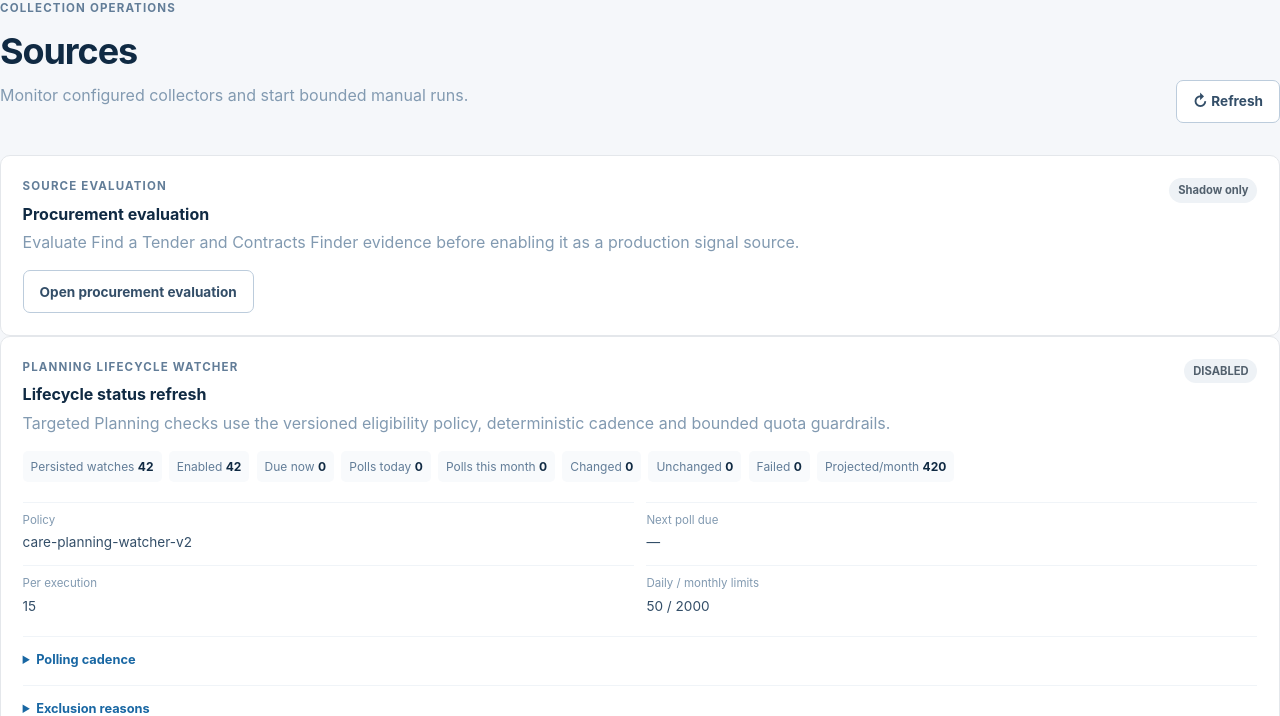
Test case: admin frontend › shows the CareProspect lifecycle watcher runtime and guardrails
This screenshot has width=1280, height=716.
Expected: the heading "Lifecycle status refresh" is shown, [23, 384, 206, 404]
Expected: the text "DISABLED" is shown, [1184, 359, 1257, 384]
Click the heading "Polling cadence".
click(86, 659)  # box [36, 652, 136, 667]
(page scrolled)
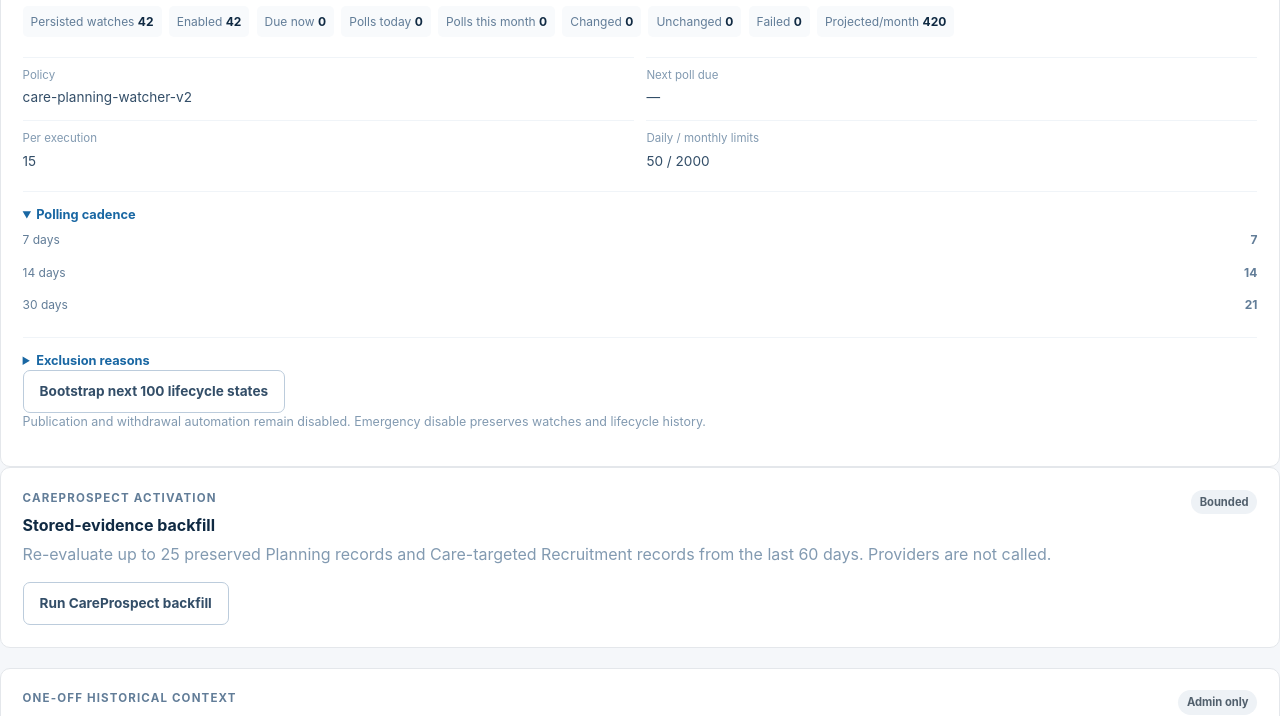
Expected: the text "7 days" is shown, [23, 231, 60, 249]
Click the heading "Exclusion reasons".
click(93, 360)  # box [36, 353, 150, 368]
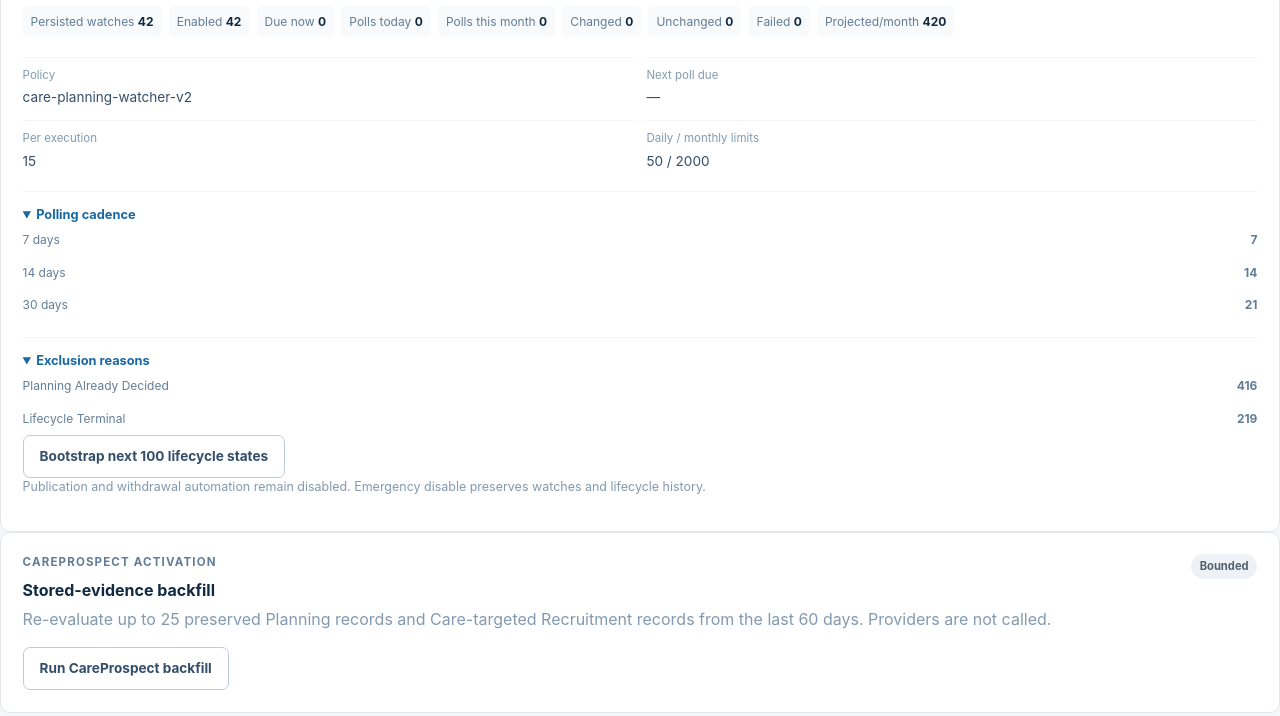
Expected: the text "Planning Already Decided" is shown, [23, 377, 169, 395]
Click the button "Bootstrap next 100 lifecycle states".
click(154, 456)  # box [23, 435, 285, 478]
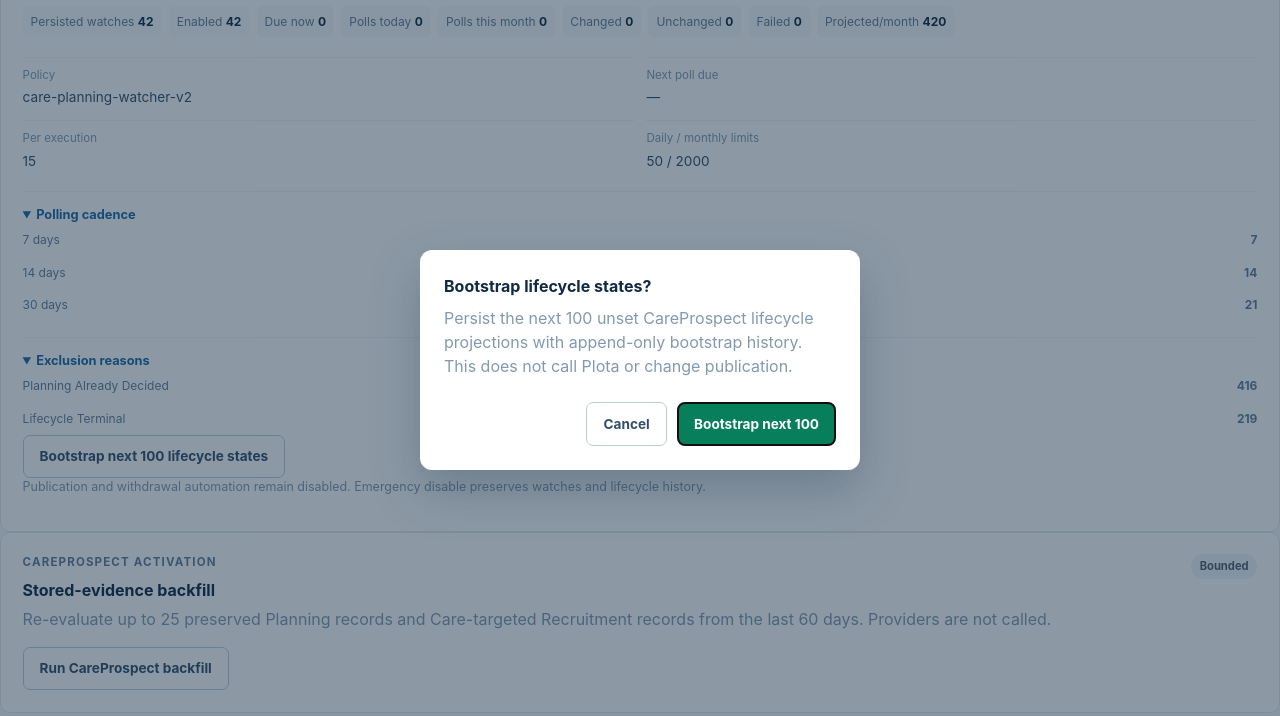
Click the button "Bootstrap next 100".
click(757, 424)  # box [677, 402, 836, 446]
(page scrolled)
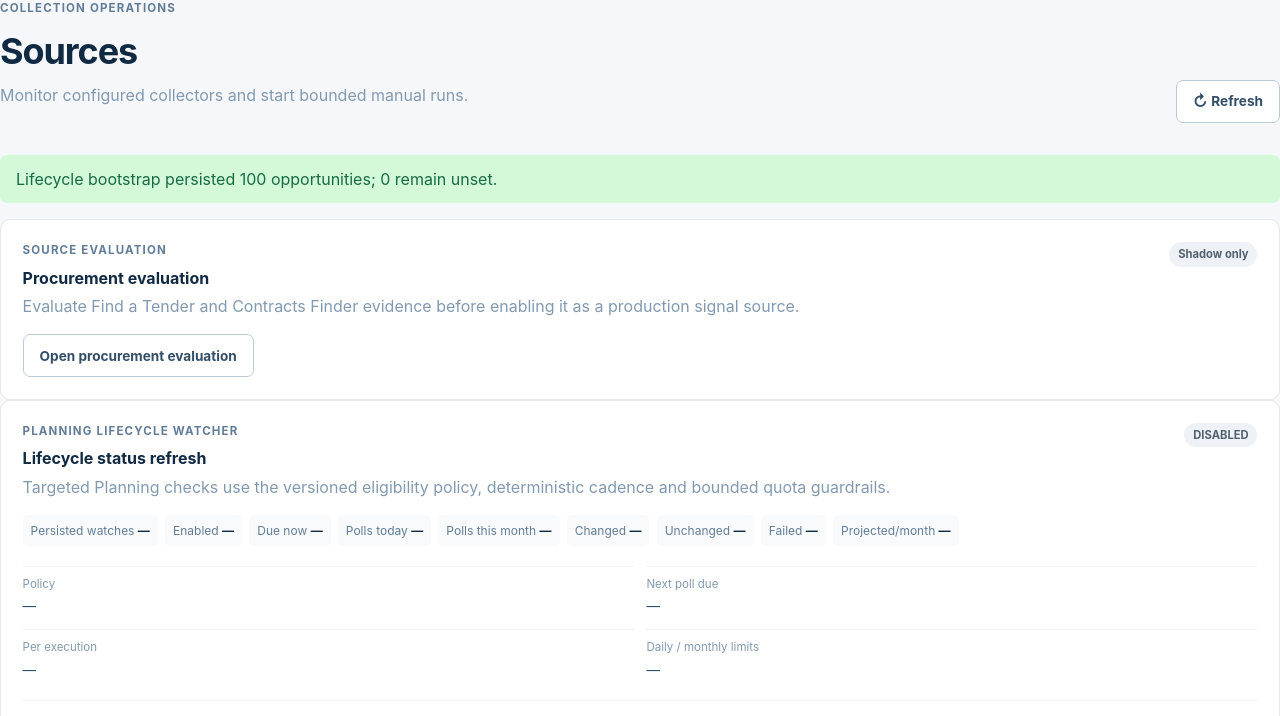
Expected: the text "Lifecycle bootstrap persisted 100 opportunities; 0 remain unset." is shown, [0, 155, 1279, 203]
